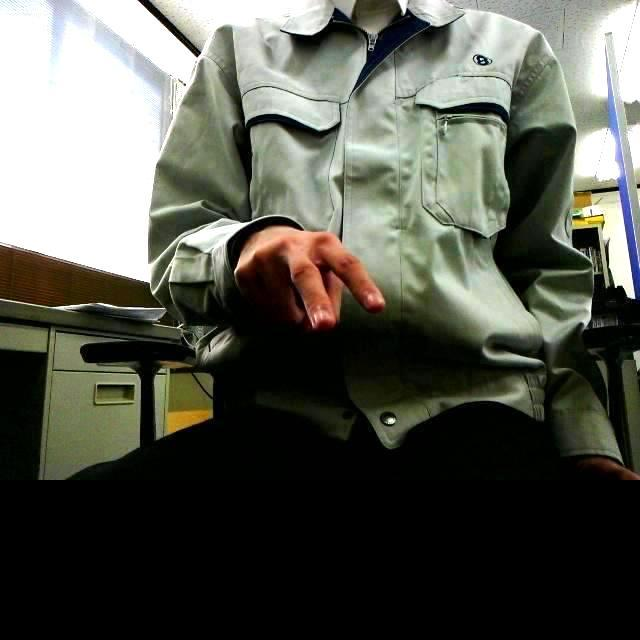tyoki: (233, 227, 386, 332)
